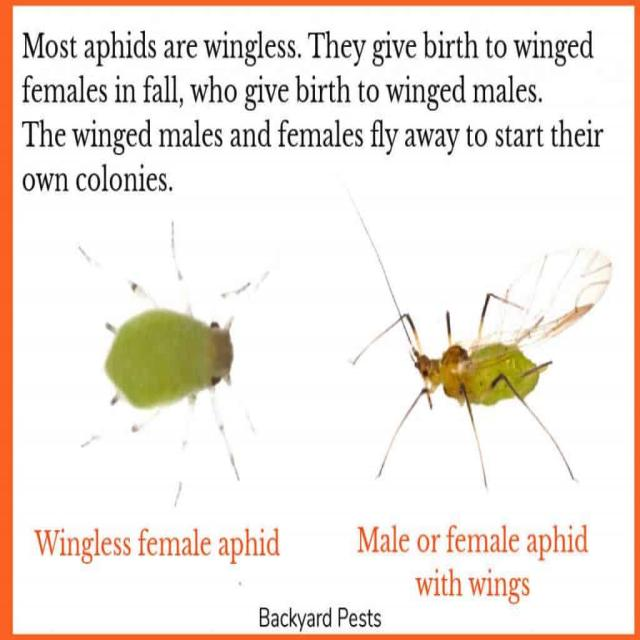Aphid-Grown-: (82, 228, 278, 451)
Aphid-Grown-have wings-: (342, 244, 622, 466)
